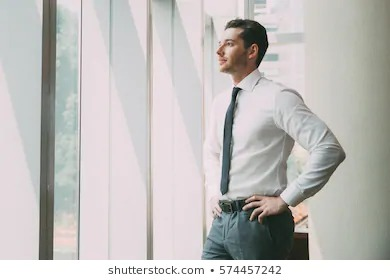F_belt: (214, 191, 283, 212)
F_shirt: (199, 71, 346, 212)
F_tie: (220, 82, 243, 195)
